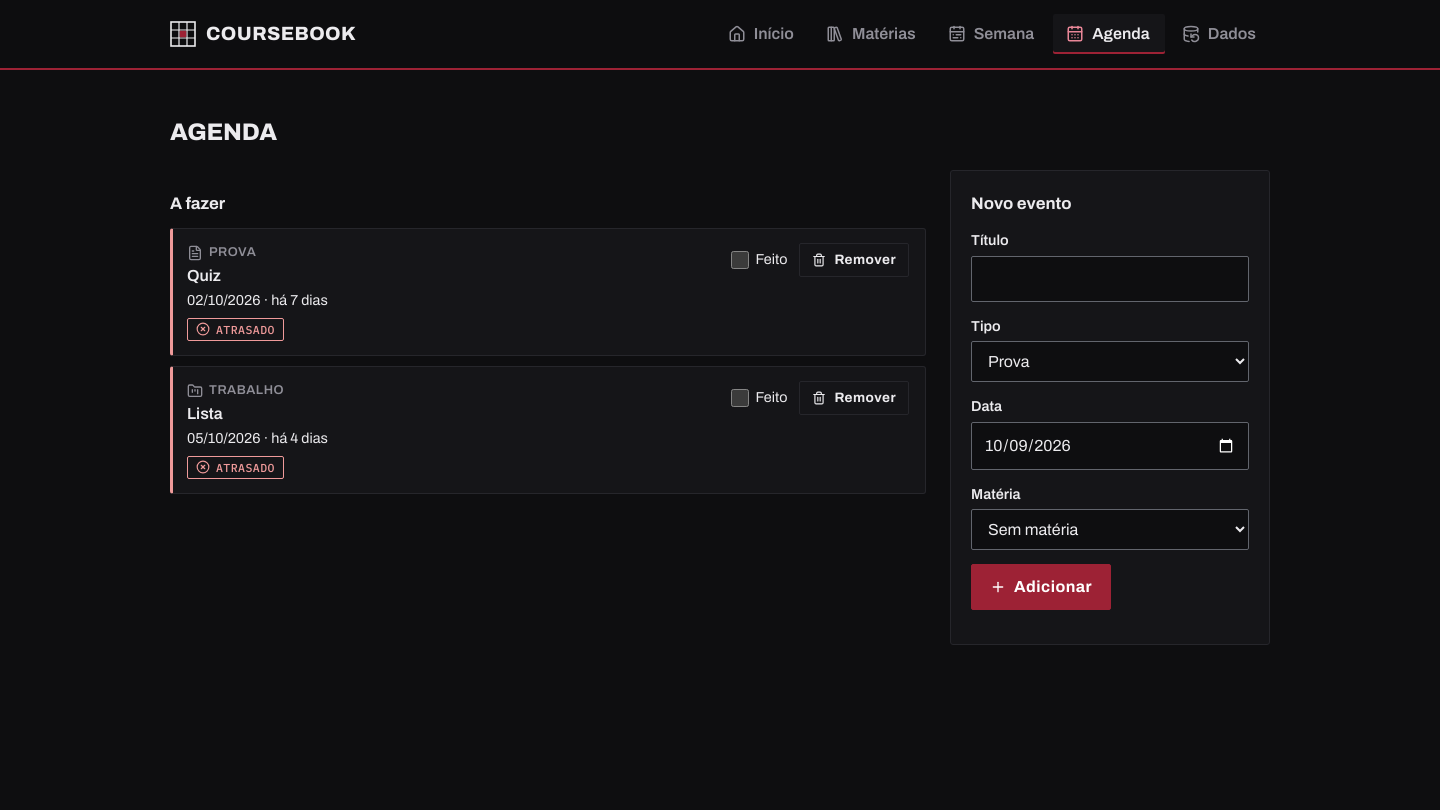
AvisoDesfazer › some sozinho depois de um tempo, mas não enquanto o mouse está em cima
Click the button with aria-label "Remover Quiz" at coordinates (854, 260), box left=800, top=243, right=909, bottom=277
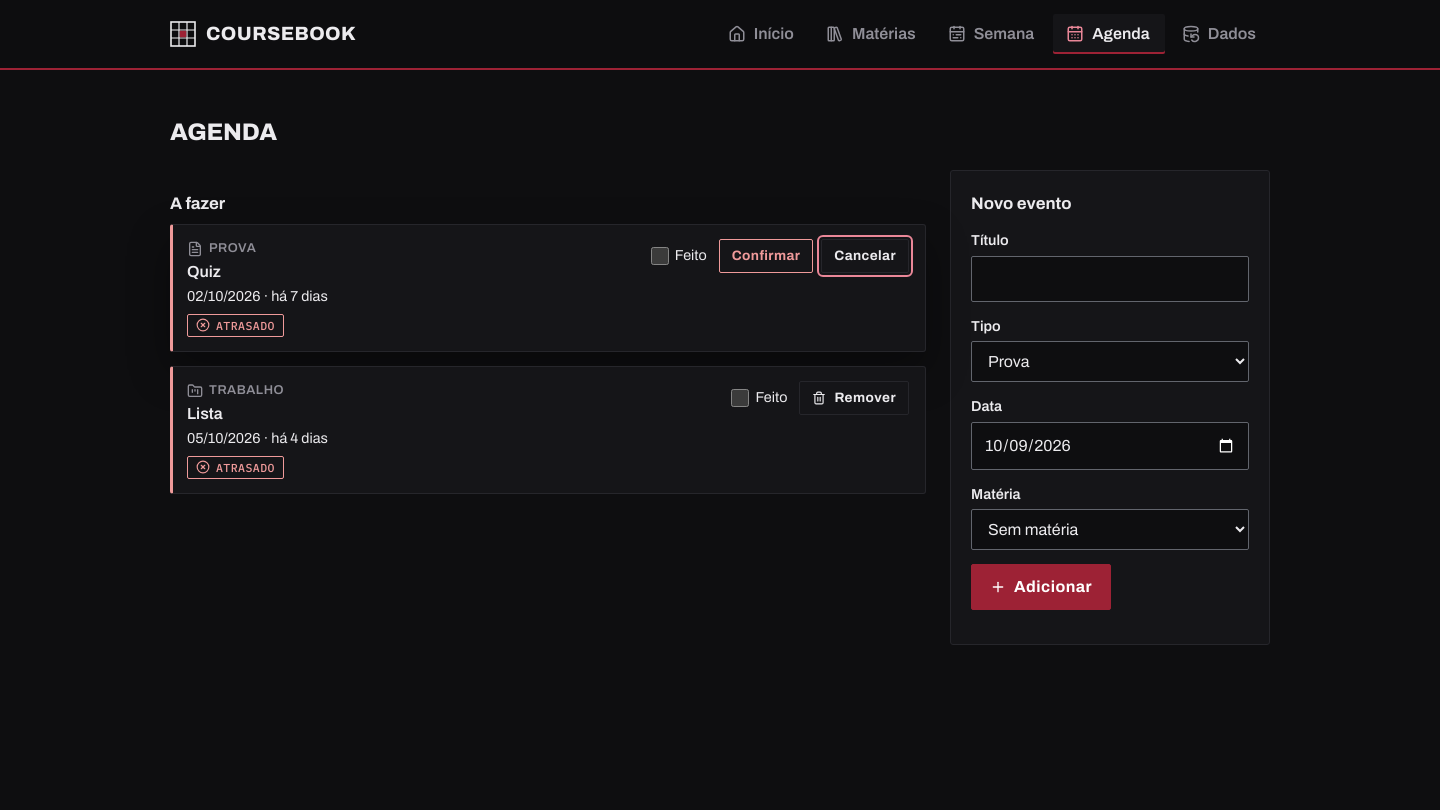
Click the button with aria-label "Confirmar remoção de Quiz" at coordinates (766, 256), box left=719, top=239, right=813, bottom=273
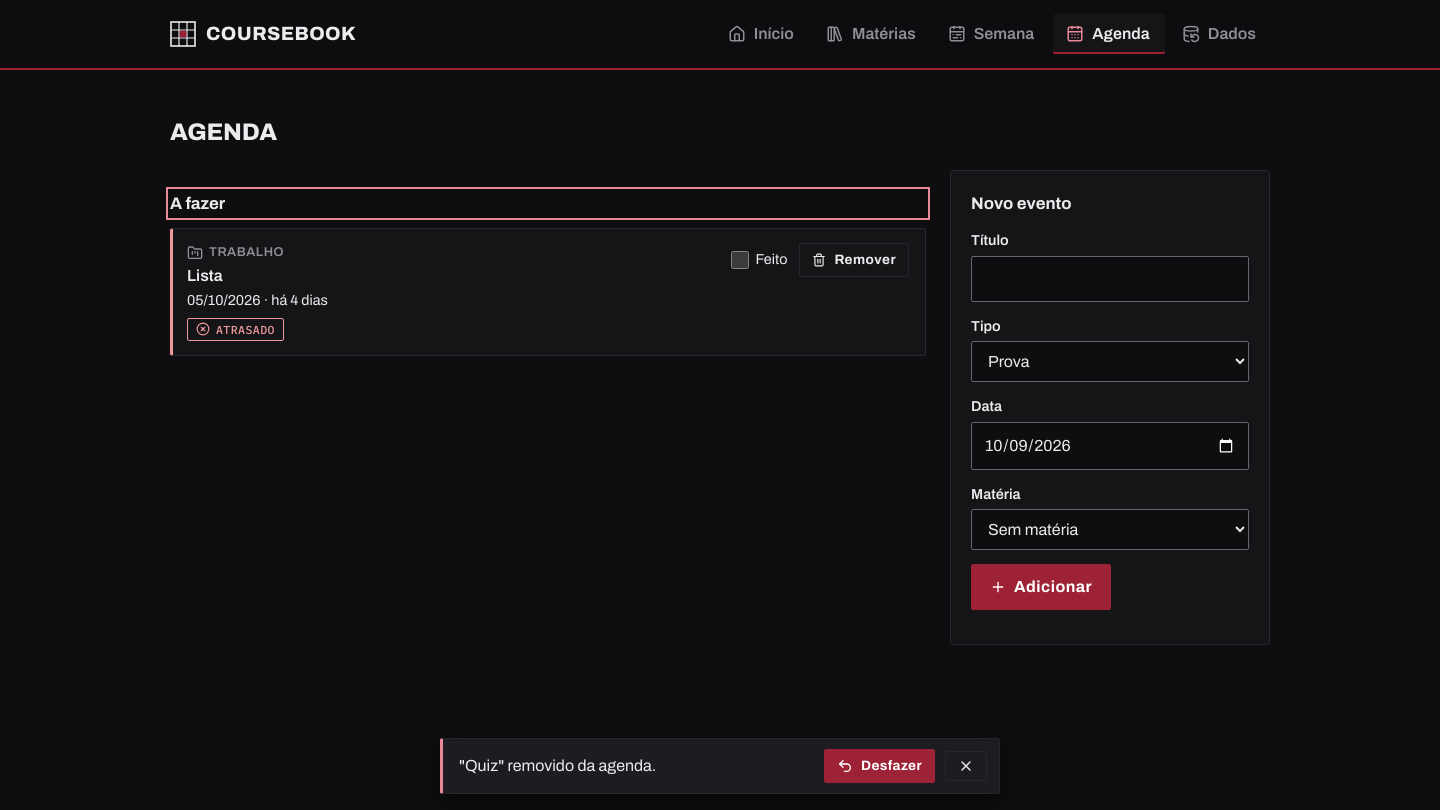
Hover over the element with class "desfazer" at coordinates (720, 766), box left=440, top=738, right=1000, bottom=794
expect the button "Desfazer" is shown: met, box left=824, top=749, right=935, bottom=783
Move the pointer off the element with class "desfazer", box left=440, top=738, right=1000, bottom=794
Wait 12000 ms
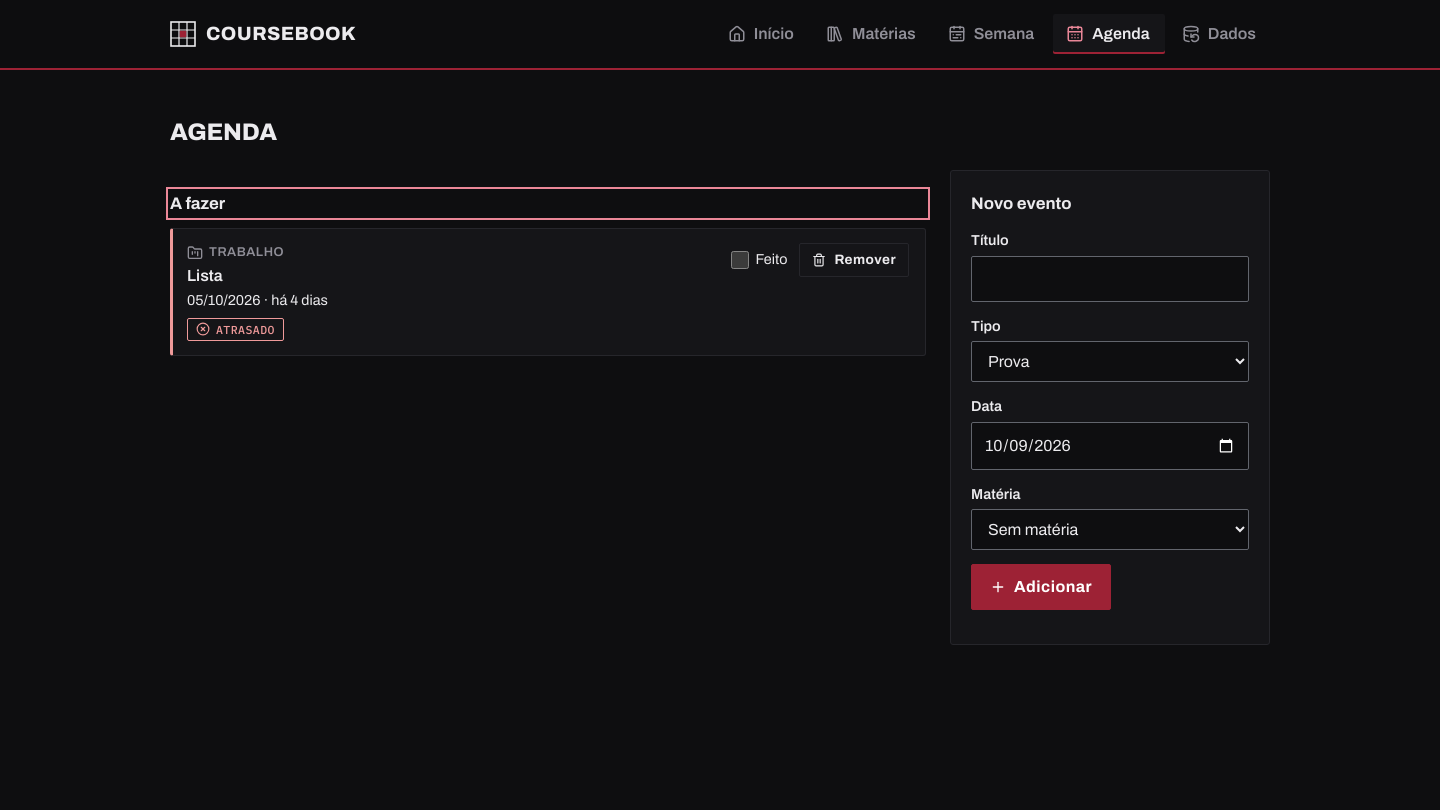
expect the button "Desfazer" is gone: met
